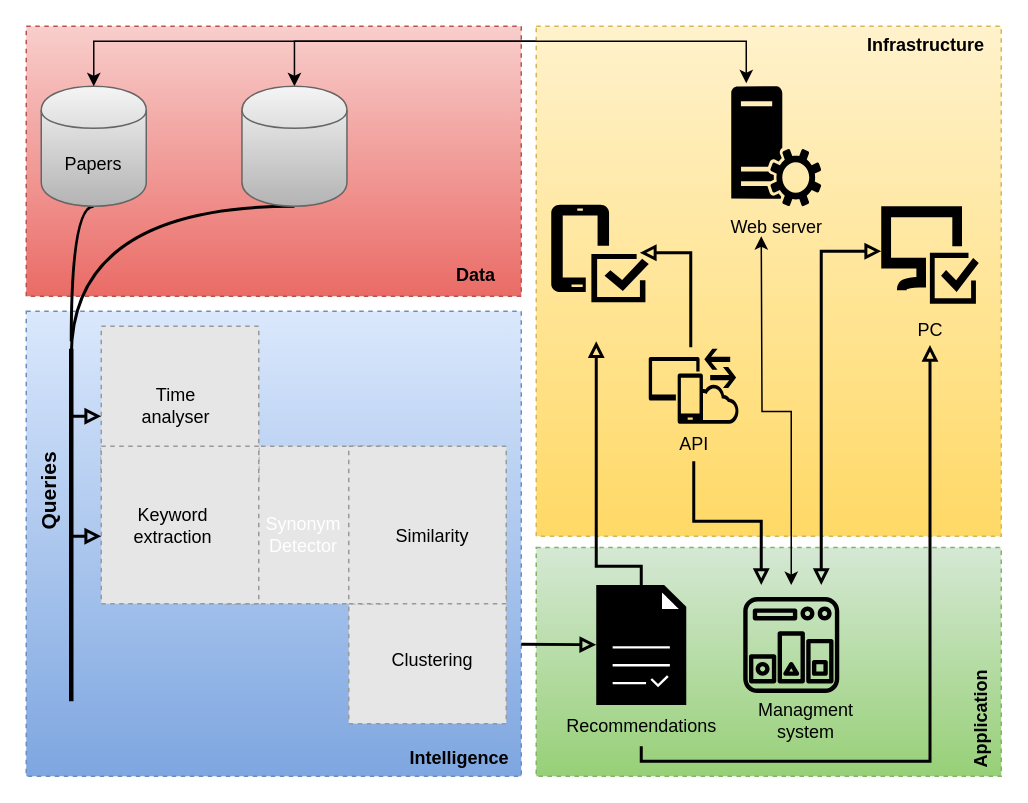
Image size: 1028x803. Some labels were removed from this diagram. Grey dashed boxes stand in for pictures. The shapes that lost their labels are listed below. From the top down, each one's centre as x and y in pixels, then its label:
At point (293, 145): "Personal data".
At point (599, 253): "Mobile".
